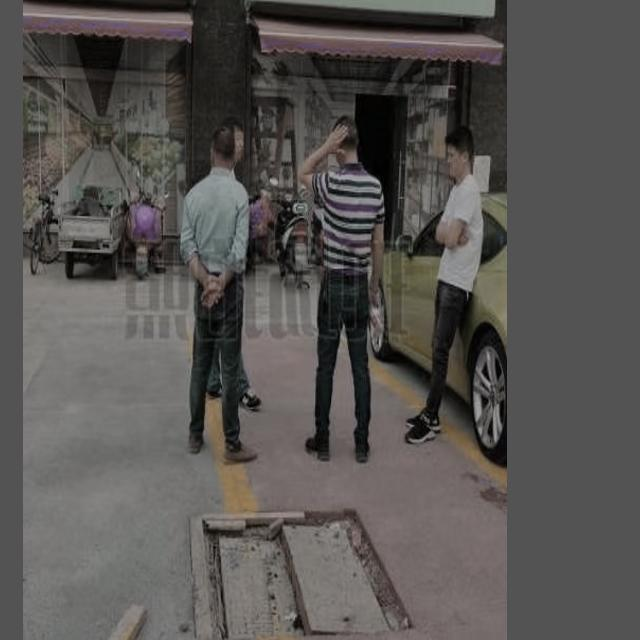circle: (191, 511, 404, 640)
